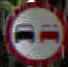No overtake: (3, 0, 67, 62)
